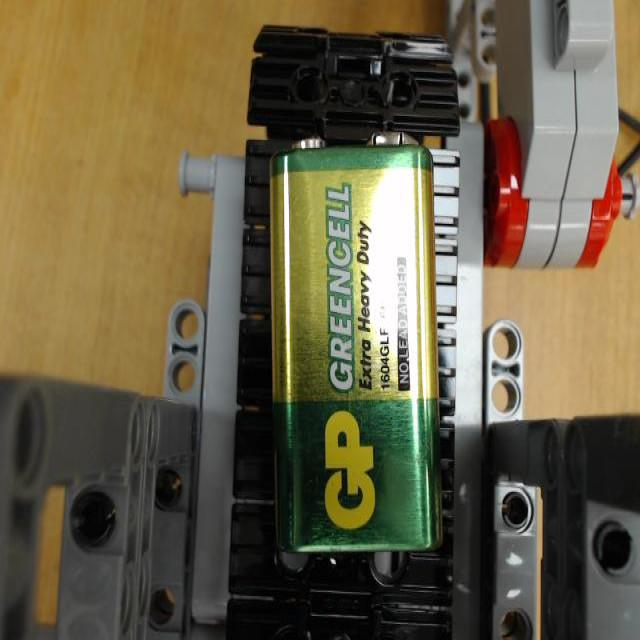9V: (276, 127, 432, 554)
